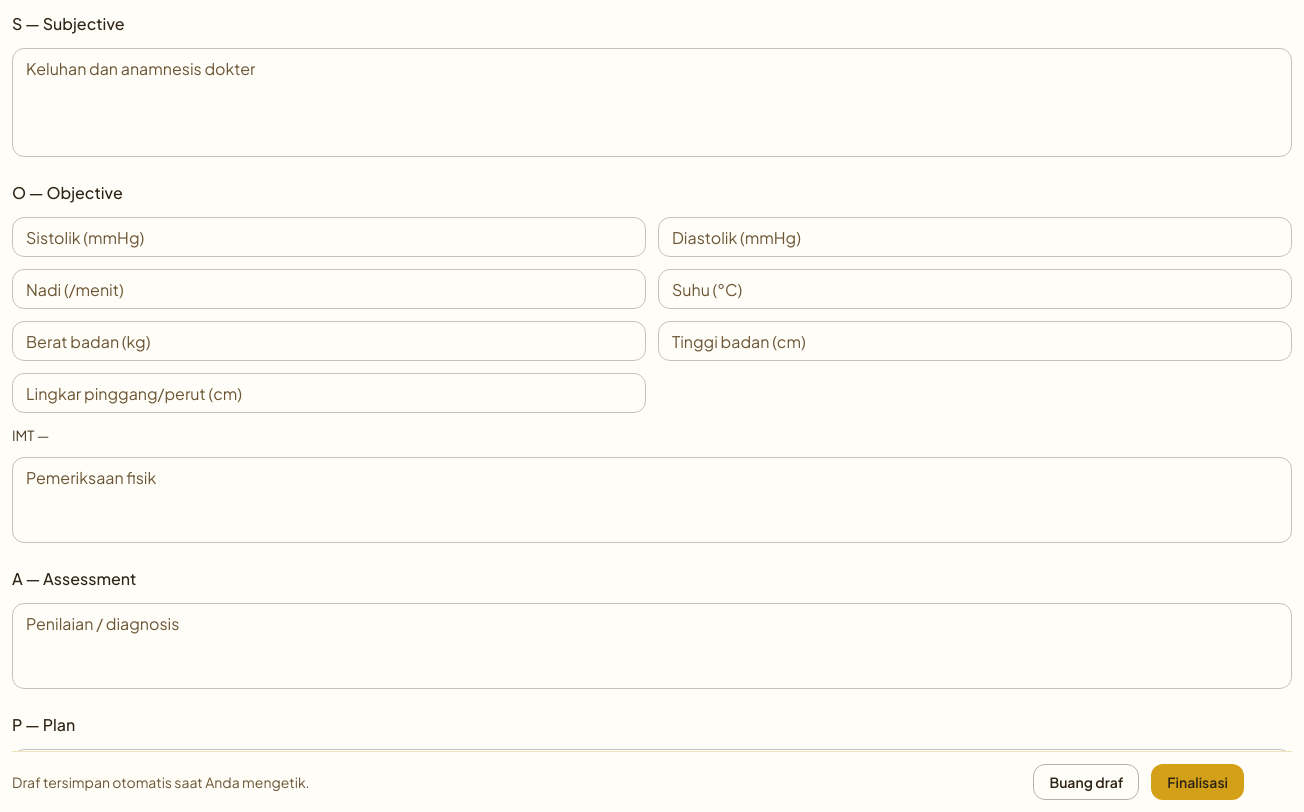
Test: EncounterForm › ketikan selama simpan masih berjalan ikut tersimpan berikutnya dengan versi terbaru
Type "A" into the text box labelled "Penilaian / diagnosis". click: (652, 646)
box: x1=26 y1=612 x2=1278 y2=680
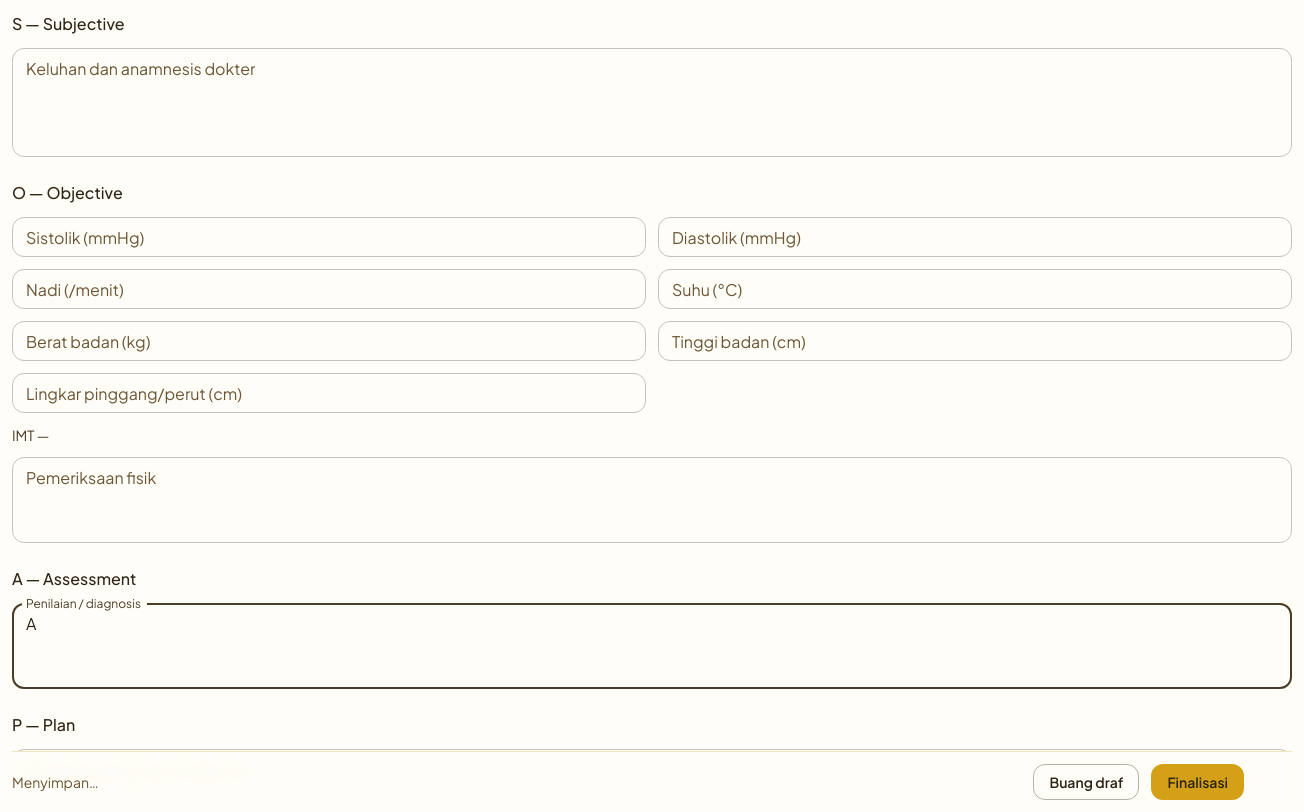
Type "B" into the text box labelled "Penilaian / diagnosis". click: (652, 646)
box: x1=26 y1=612 x2=1278 y2=680
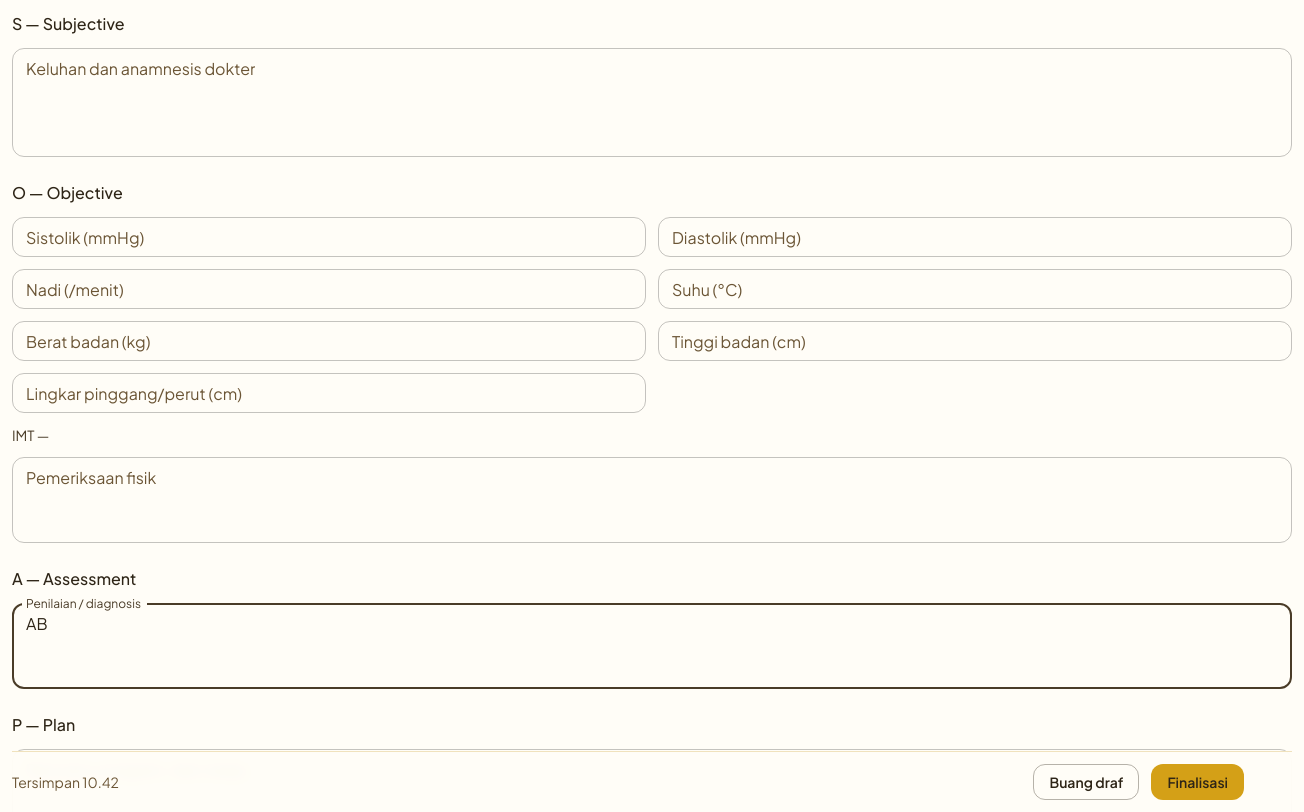
Expected: the message shows "Tersimpan", x1=12 y1=773 x2=119 y2=791
